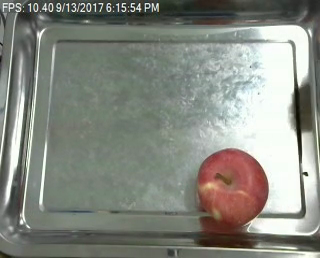Apple: (194, 147, 268, 230)
